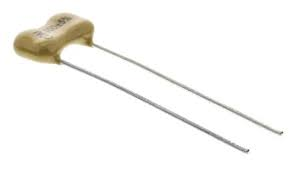ceramic capacitor: (6, 5, 114, 75)
